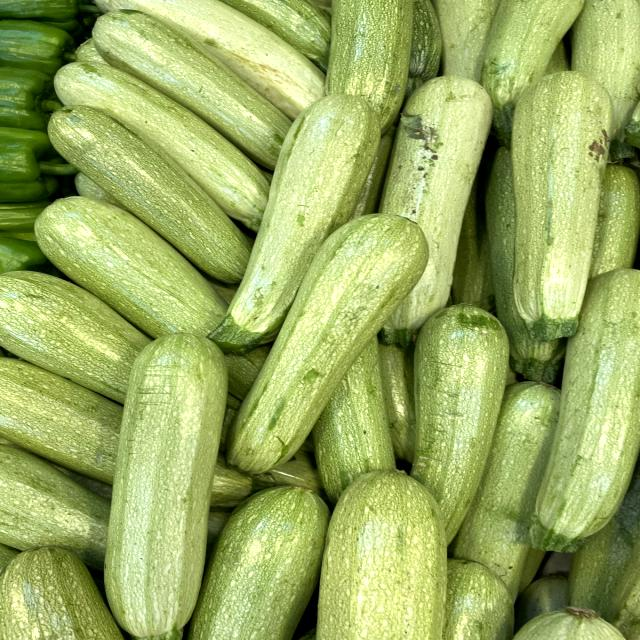zucchini: (221, 202, 436, 479), (200, 89, 392, 354), (88, 330, 241, 640), (489, 61, 631, 346)
